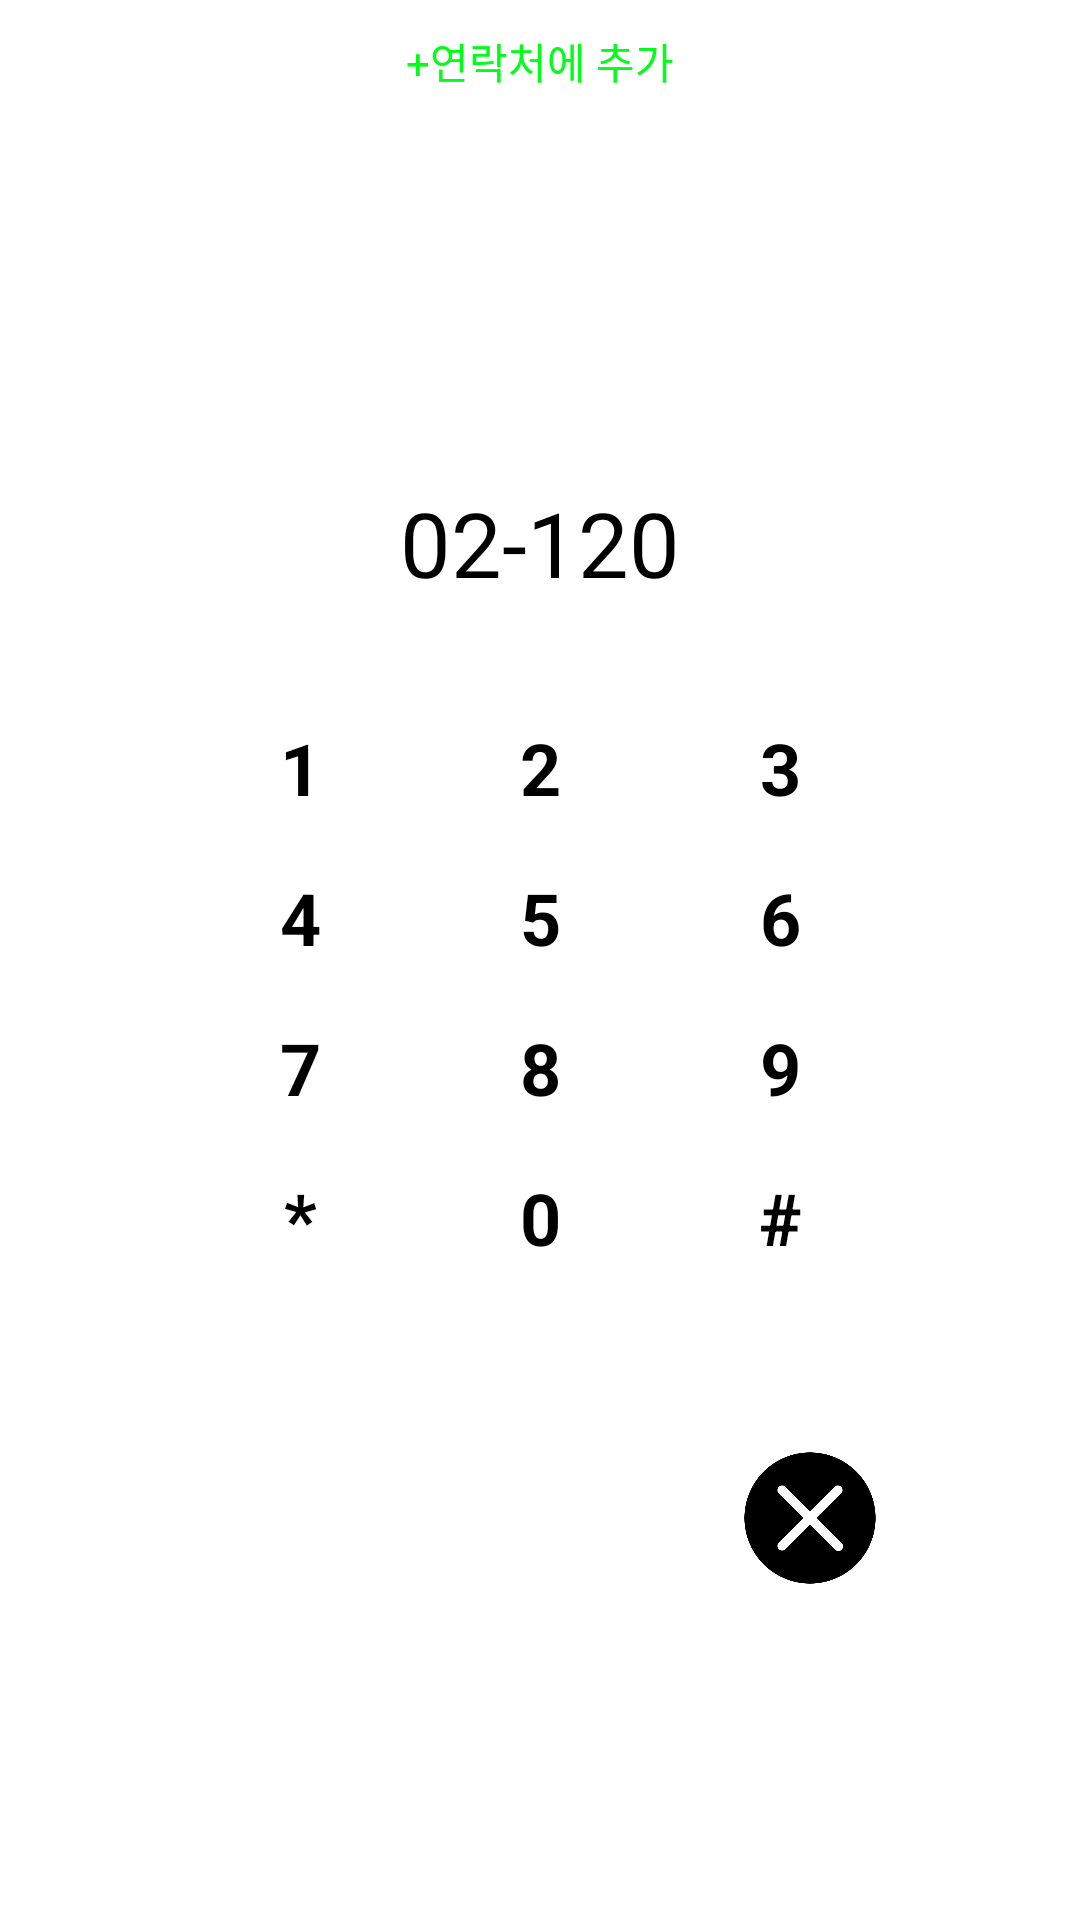

Icons on this 1080*1920 Android screen, each with its box as [x1=x1, y1=y1, x2=x2, y2=y2]:
cancel: [x1=744, y1=1452, x2=876, y2=1584]
